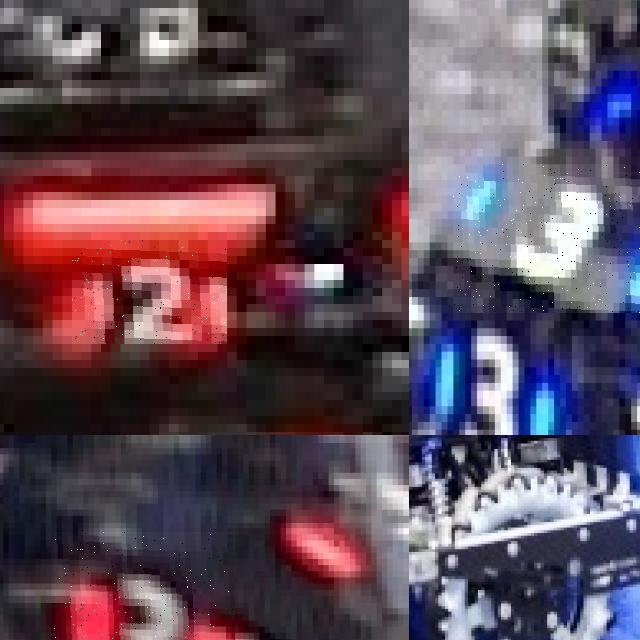B3: (453, 164, 640, 312), (415, 293, 557, 435)
R2: (72, 240, 227, 344)
R3: (53, 531, 235, 640), (283, 435, 409, 592)
